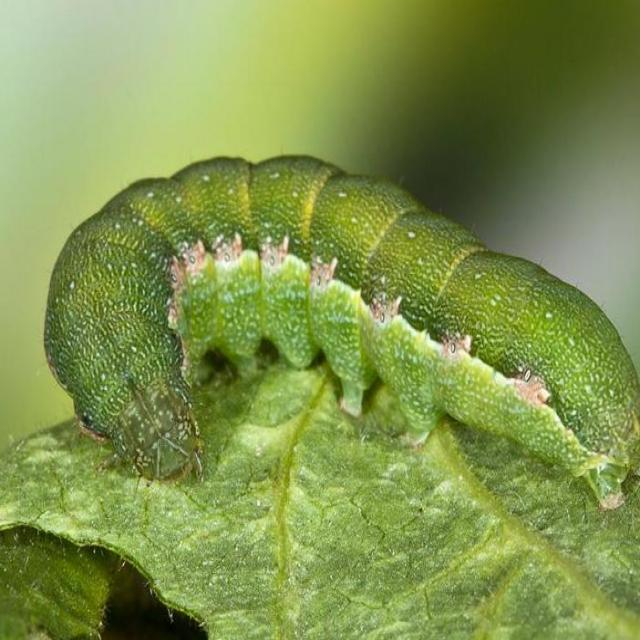BeetArmyWorm-Larva-: (30, 148, 639, 522)
